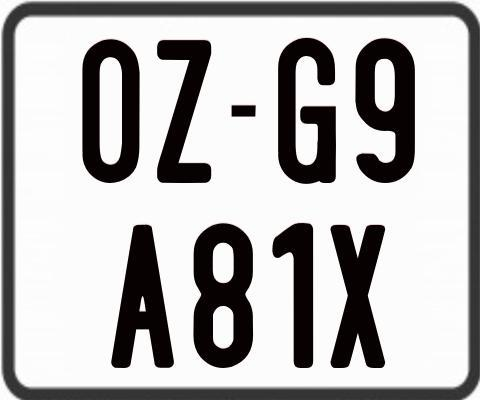0: (81, 39, 144, 189)
1: (272, 220, 316, 368)
8: (192, 221, 255, 372)
9: (352, 35, 418, 185)
A: (110, 222, 178, 370)
G: (275, 38, 335, 185)
X: (330, 222, 391, 371)
Z: (157, 37, 214, 183)
